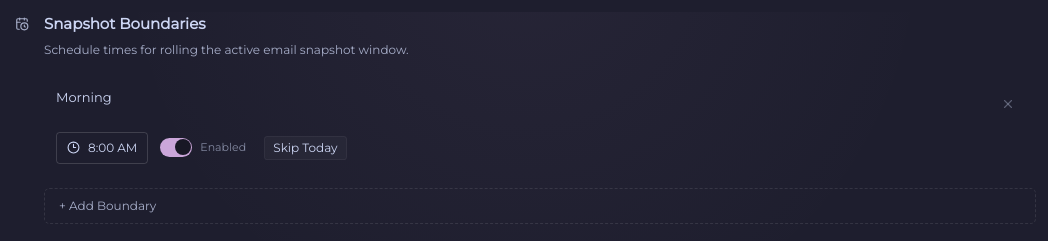
Test case: BriefingSchedulesCard › never patches a blank schedule label, restoring a non-blank fallback on blur (P1-3)
Clear the field showing "Morning" at (518, 97), box [56,88,980,107]
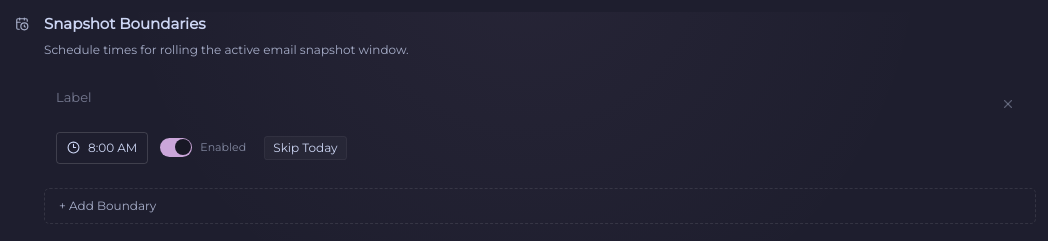
Leave the field showing "Morning", box [56,88,980,107]
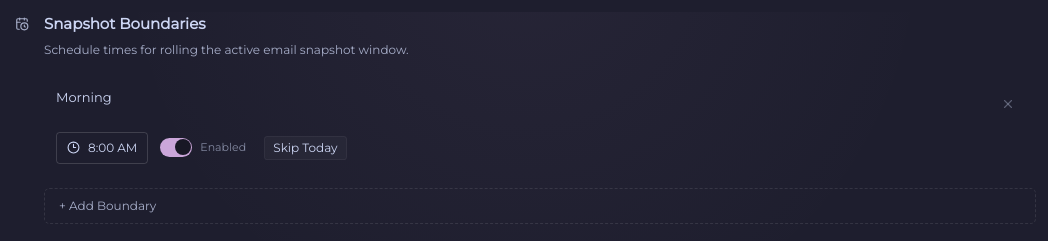
Result: the field showing "Morning" is not empty at [56,88,980,107]
